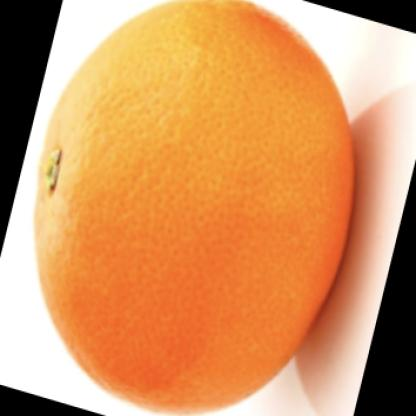fresh: (38, 1, 358, 407)
